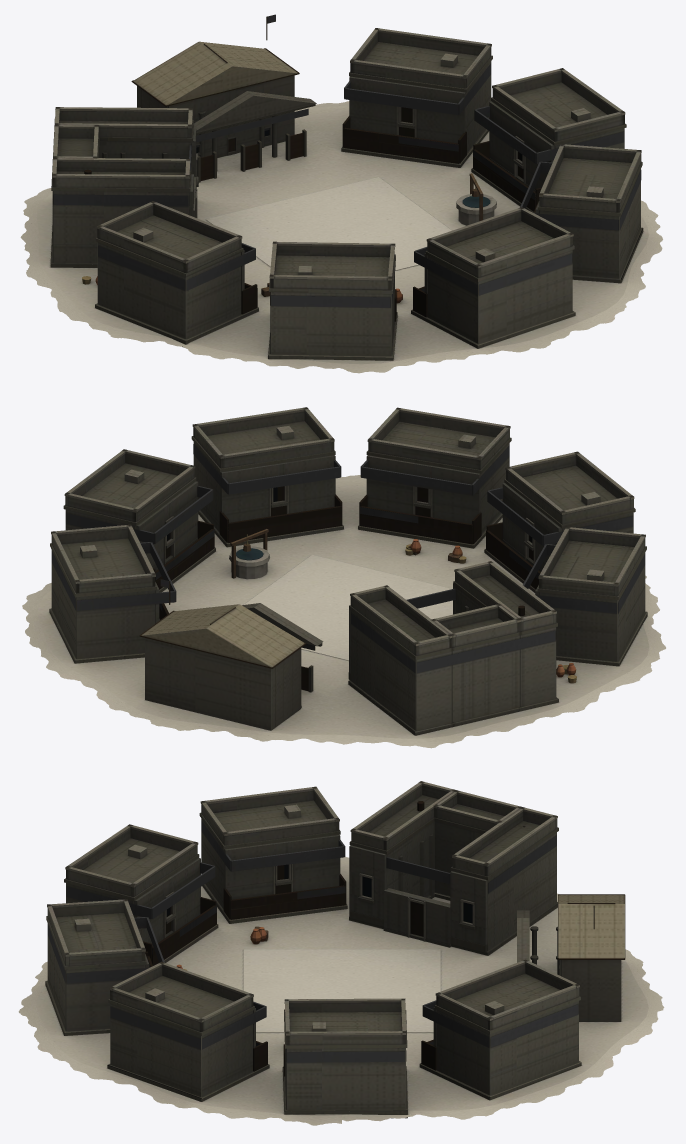
The model's file is classical-town-small-a-israelite.glb.
3 renders of one model, top to bottom at view 1: azimuth 30°, elevation 25°; view 2: azimuth 150°, elevation 25°; view 3: azimuth 270°, elevation 25°, orthographic.
Parts seen in each view (by area): view 1: LOD0; view 2: LOD0; view 3: LOD0.
Boxes of the visible parts, bbox=[...] form: LOD0: bbox=[20, 14, 662, 373]; LOD0: bbox=[22, 407, 665, 748]; LOD0: bbox=[18, 781, 664, 1125].
Size of what is drawn, in the model's own units: 3.98 by 0.774 by 4.01.
Materials: 3 (3 with a texture image).
